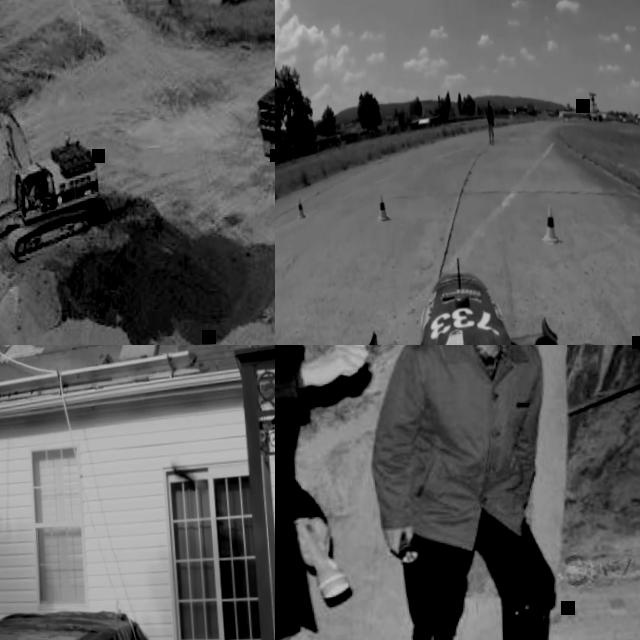NO-Safety Vest: (410, 345, 552, 532), (275, 345, 318, 585), (486, 106, 493, 123)
Person: (357, 345, 567, 640), (275, 345, 388, 640), (484, 99, 496, 144), (26, 175, 39, 199)
Safety Cone: (540, 203, 563, 247), (377, 193, 390, 228), (294, 196, 307, 224)
Safety Vest: (28, 183, 40, 198)
machinery: (0, 47, 112, 268)
vehicle: (275, 239, 640, 345)
